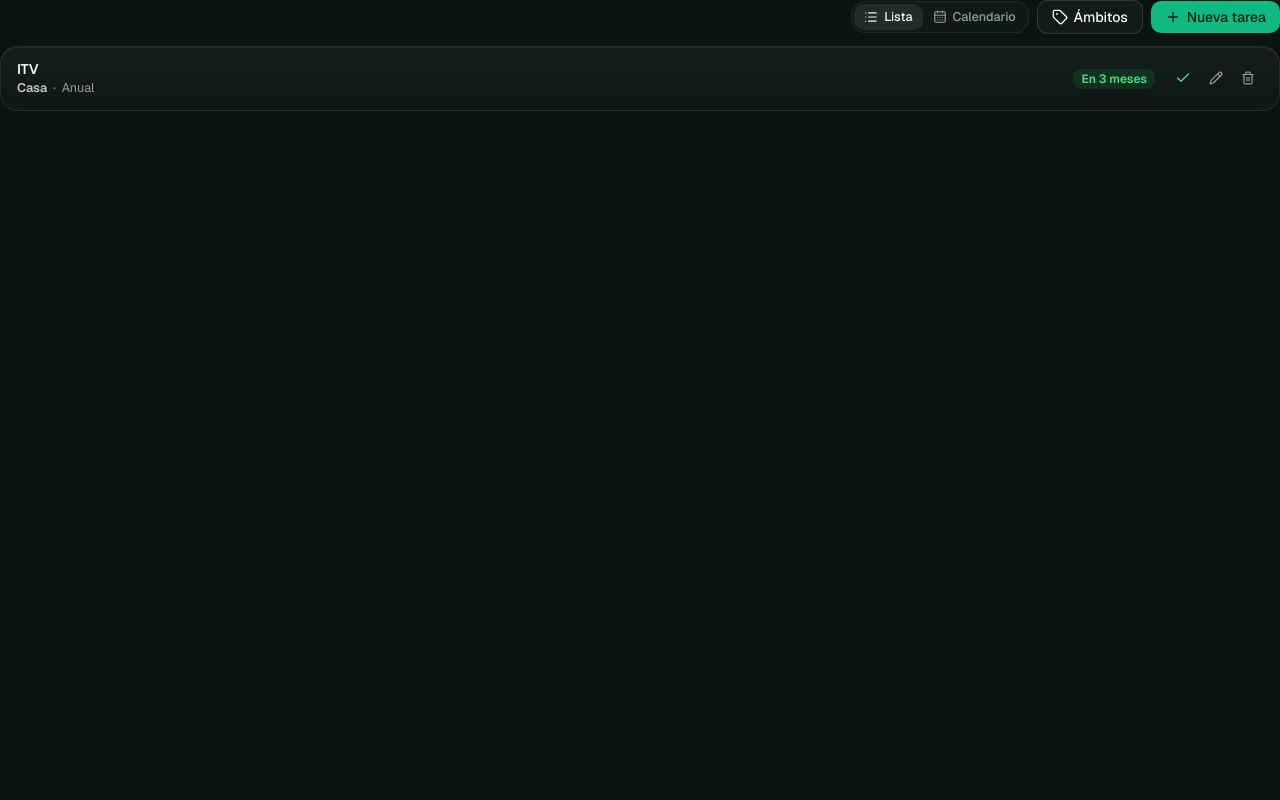
Modal de nueva tarea › ...y con el campo vacío no se puede guardar
Step 1. Click the button "Nueva tarea" → x=1215, y=17, box [1151,1,1279,33]
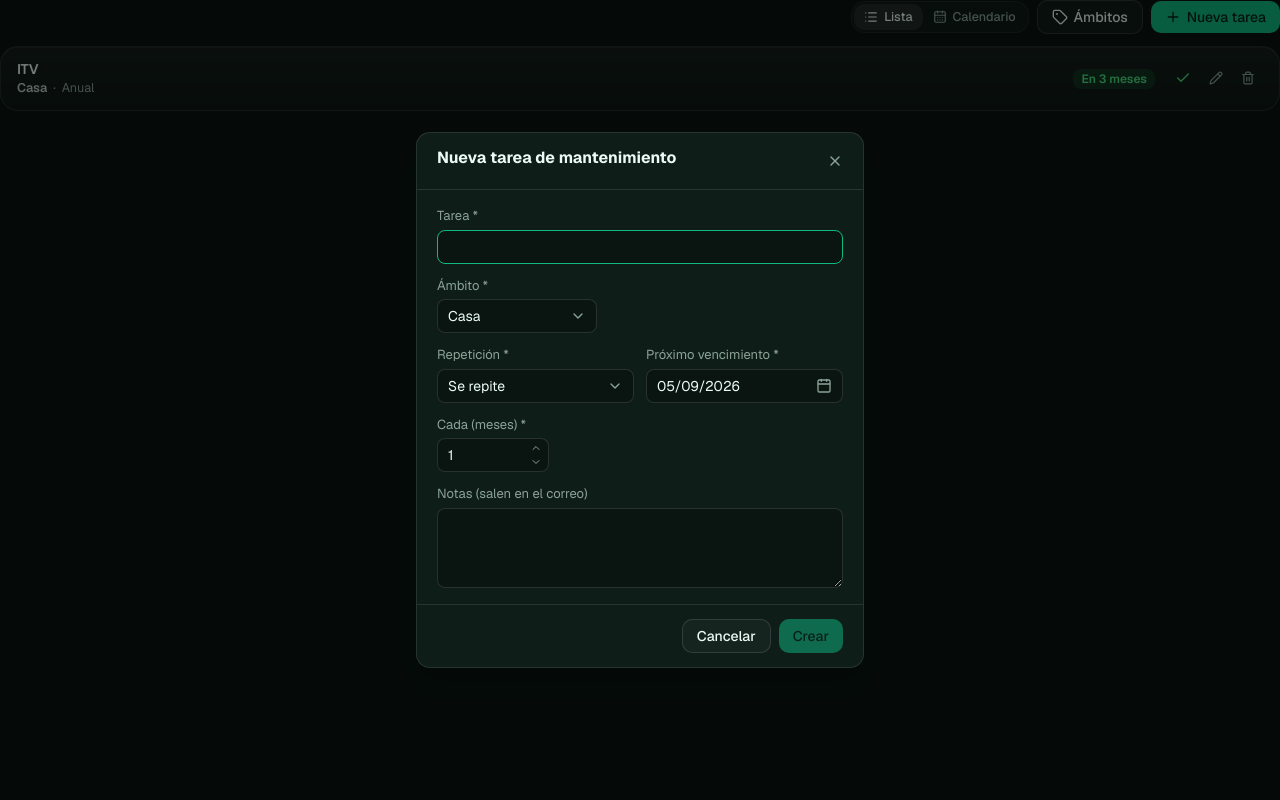
Step 2. Clear the field named "Periodicidad en meses" → x=483, y=455, box [438,439,528,471]
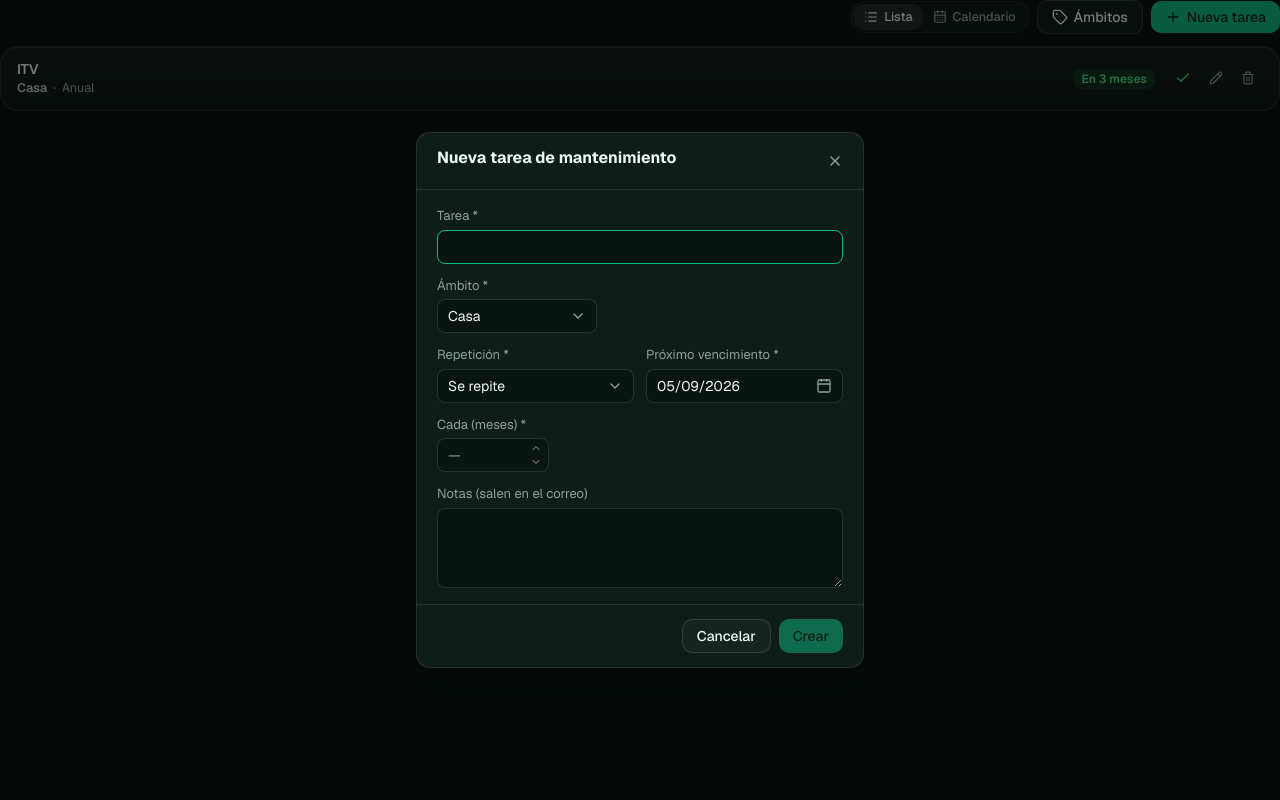
Now the button "Crear" is disabled, box [779,619,843,653]
Step 3. Type "3" into the field named "Periodicidad en meses" → x=483, y=455, box [438,439,528,471]
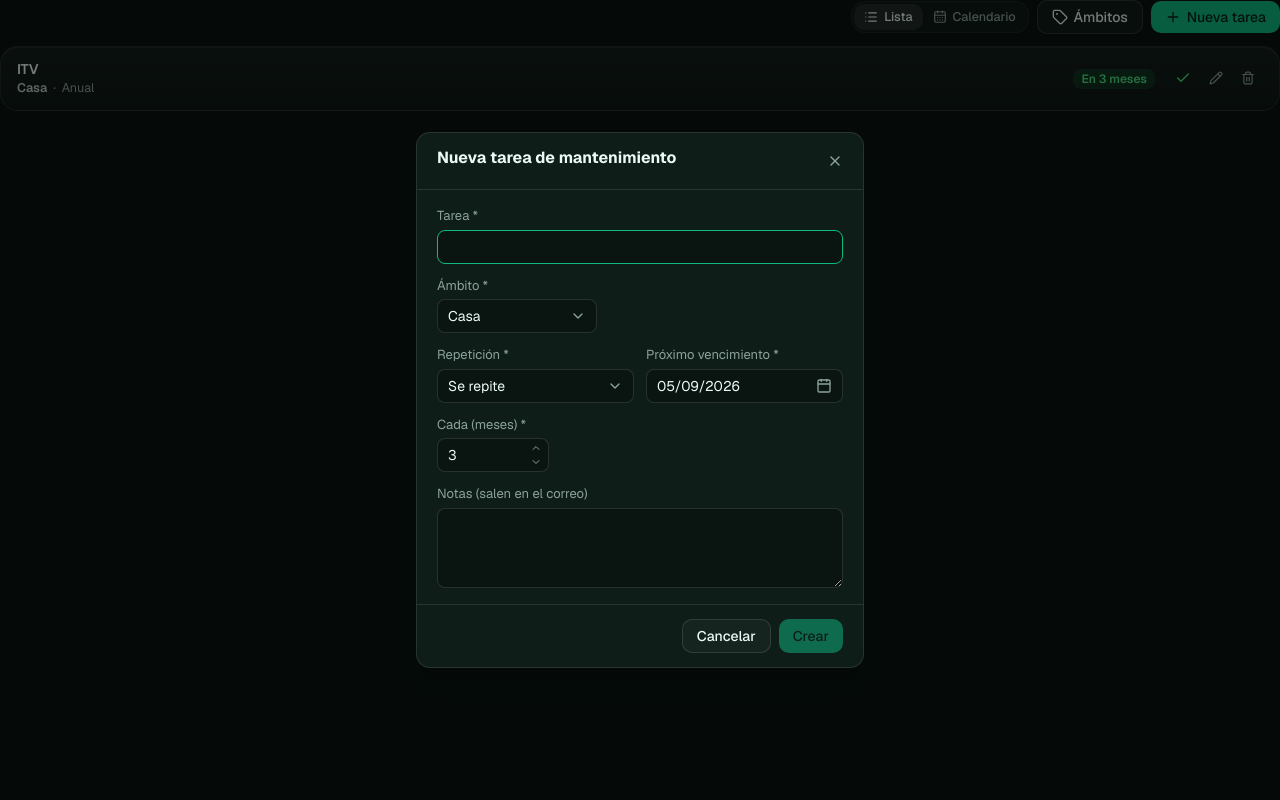
Step 4. Type "ITV" into the field labelled "Tarea" → x=640, y=247, box [437,230,843,264]
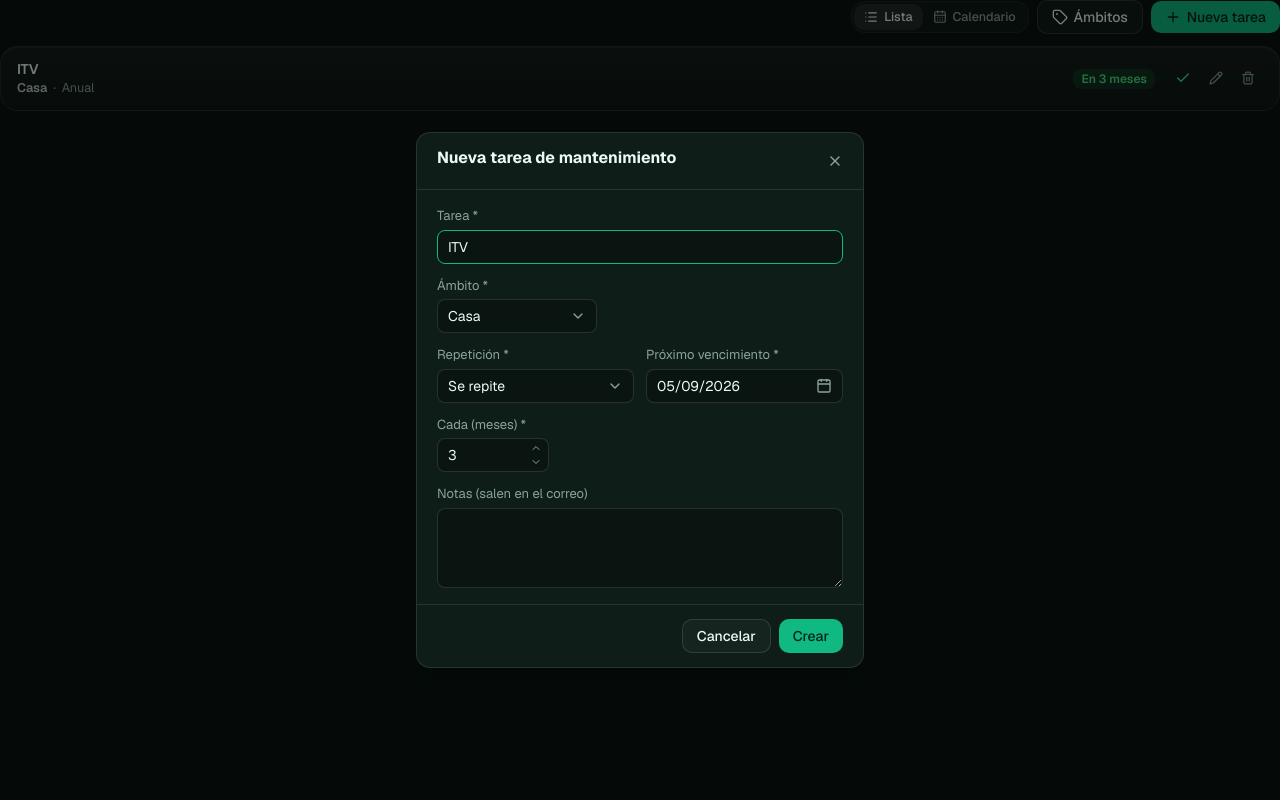
Now the button "Crear" is enabled, box [779,619,843,653]
